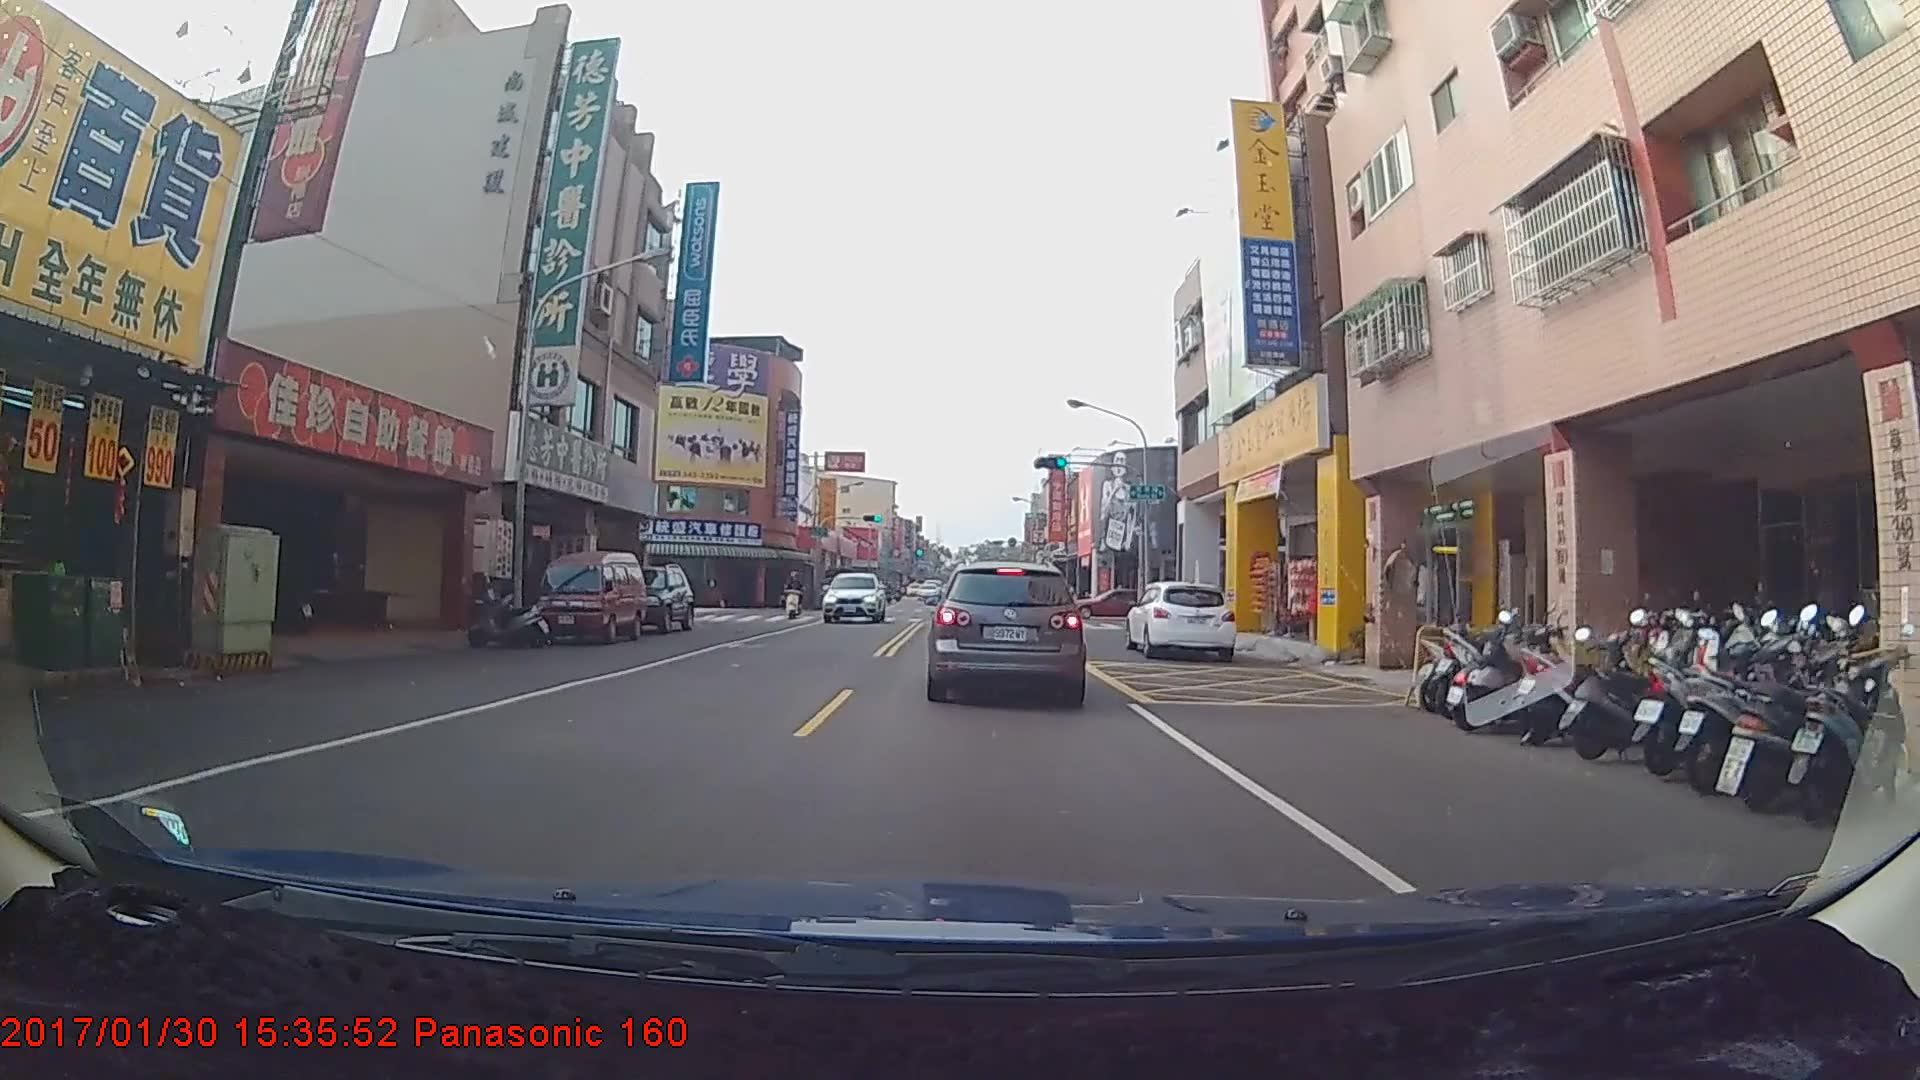rider: (782, 572, 810, 623)
vehicle: (928, 558, 1085, 702), (534, 552, 647, 646), (1125, 579, 1234, 662), (608, 562, 695, 634), (820, 566, 882, 619), (1064, 589, 1163, 619)
